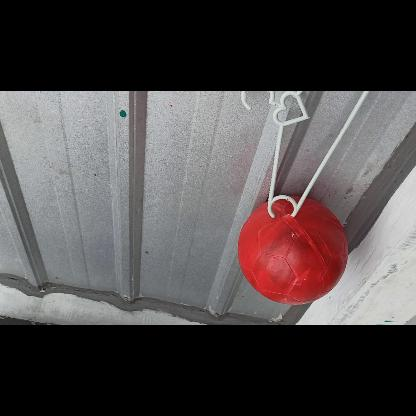red_ball: (237, 195, 347, 305)
